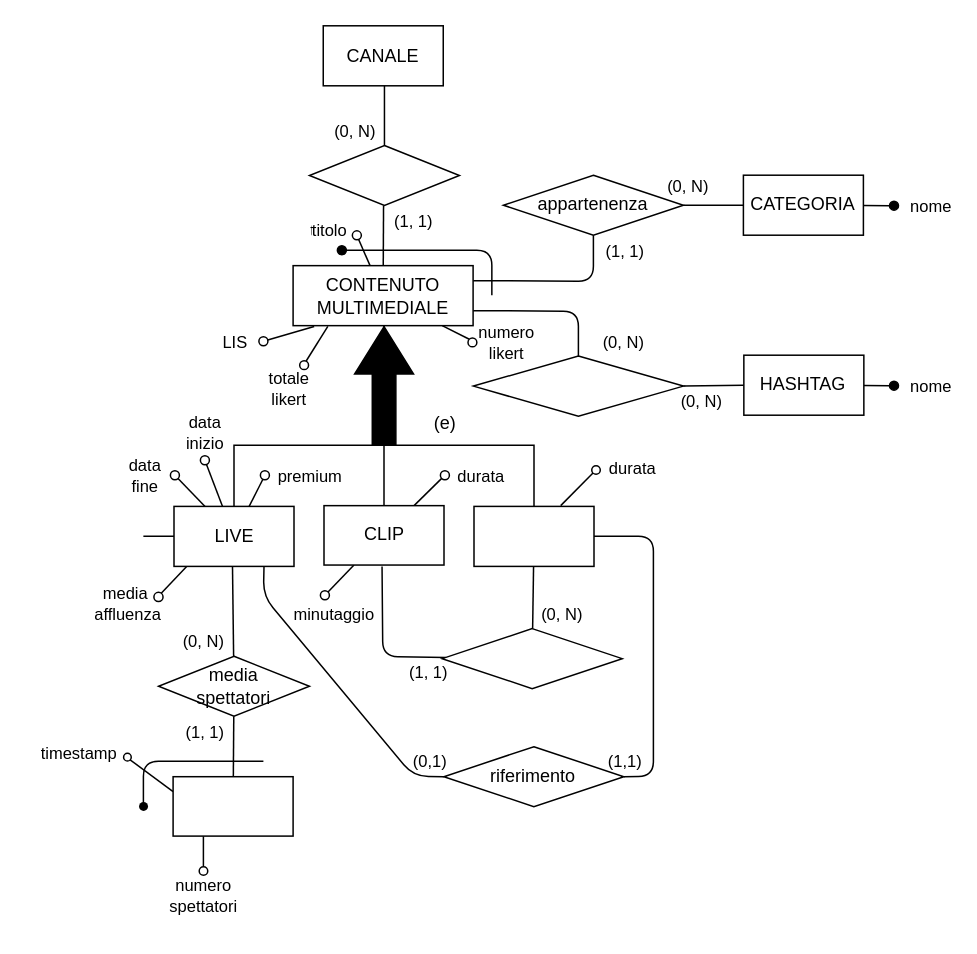
The diagram is 977 pixels wide and 954 high, and some of its shapes have lost their labels. The box of each missing label's shape, as (x1, y1, x2, y2) in pixels:
AFFLUENZA: (172, 775, 293, 836)
associazione (CM-H): (472, 354, 683, 416)
contenitore: (308, 144, 459, 206)
scomposizione: (441, 627, 622, 689)
VIDEO: (472, 505, 594, 566)
